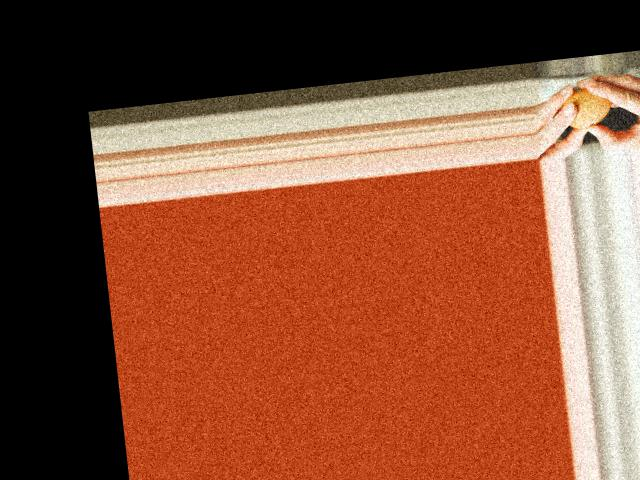egg: (559, 84, 612, 130)
